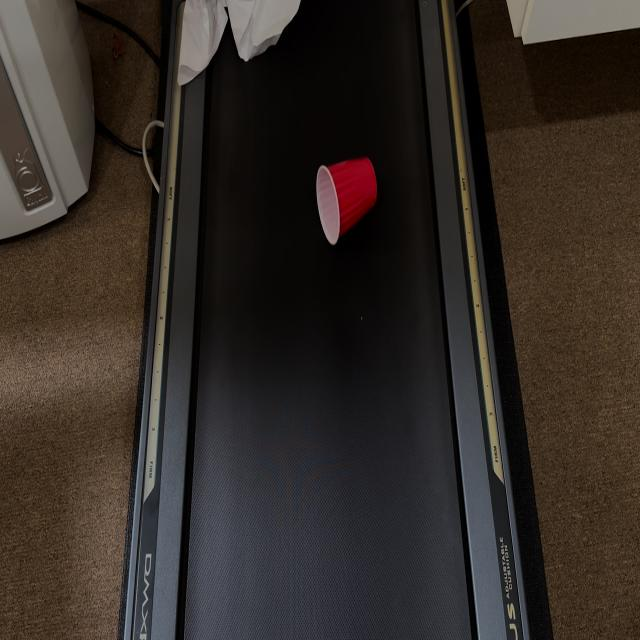Recycle: (176, 0, 303, 87), (312, 158, 378, 248)
